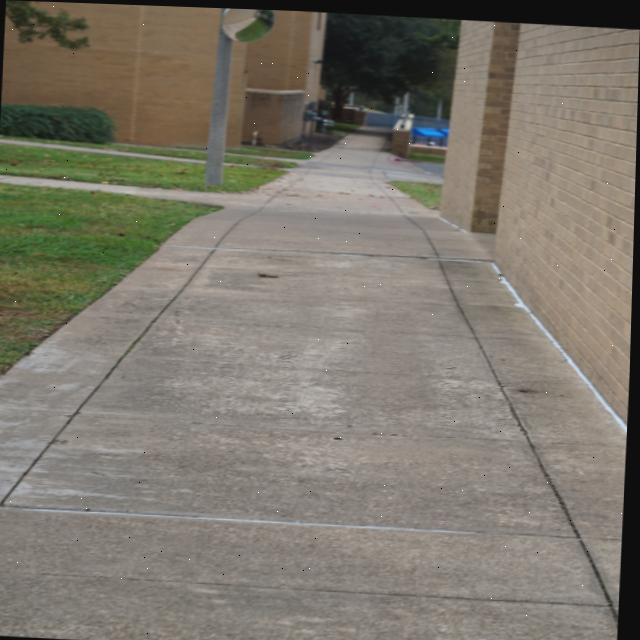Sidewalk: (0, 130, 629, 640), (0, 137, 207, 162), (226, 151, 304, 161)
